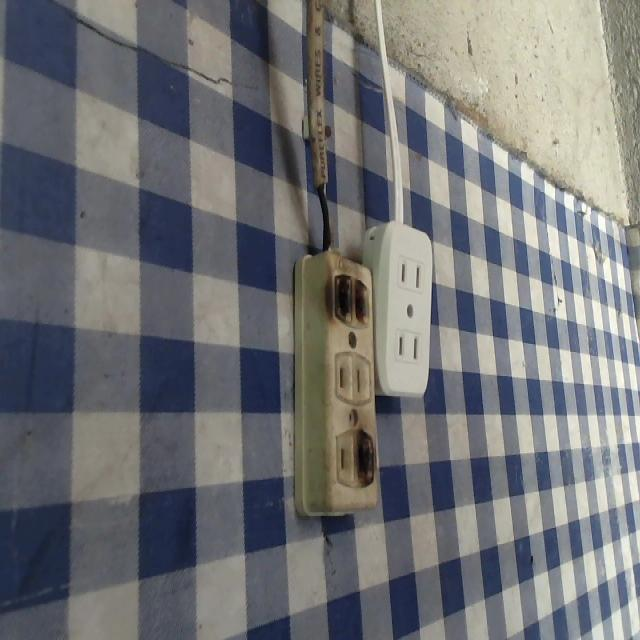-: (326, 268, 374, 328), (353, 425, 379, 488)
